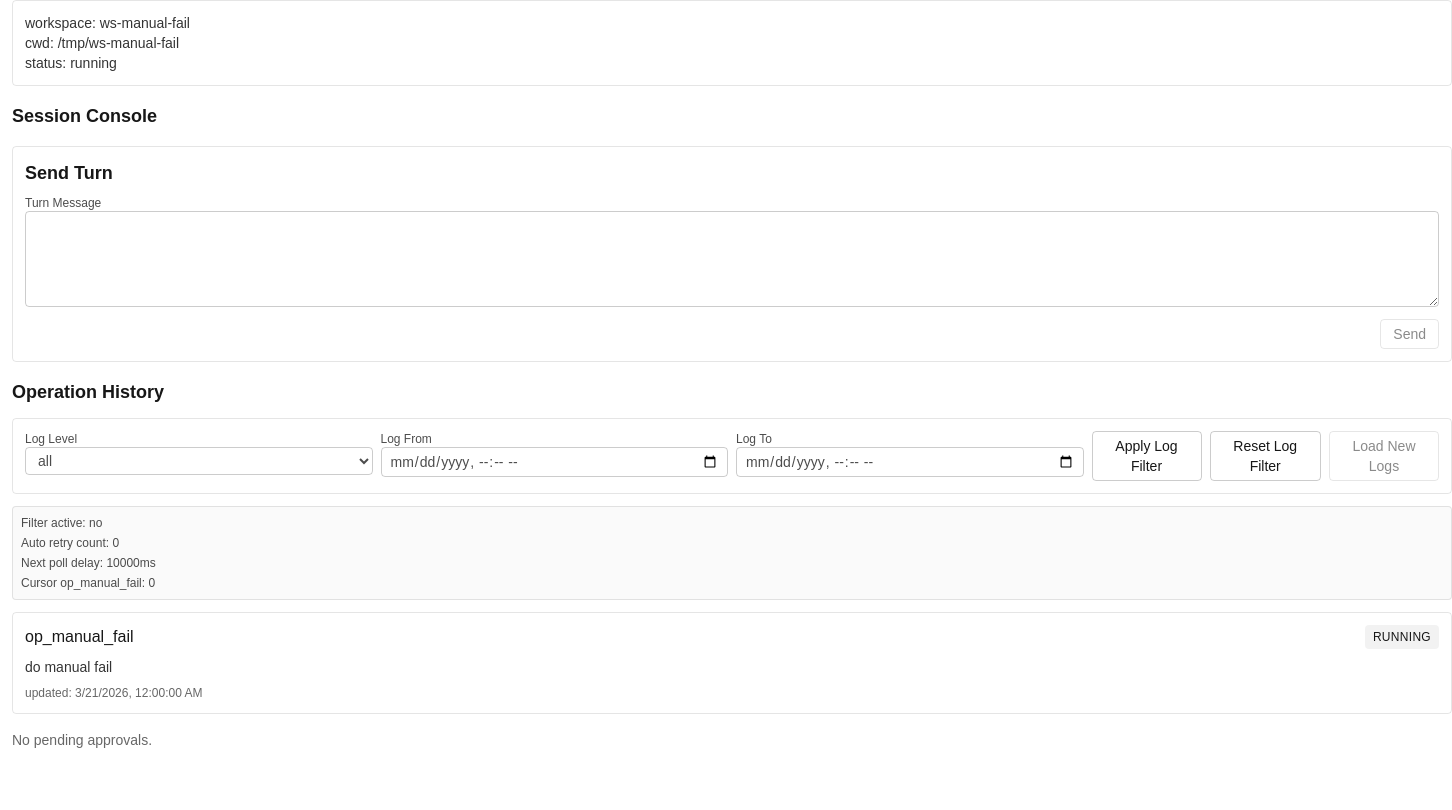
it: SessionDetailLive › shows timestamped manual log reload failure separately
Select "error" in the dropdown labelled "Log Level" at (199, 461), box [25,447,372,475]
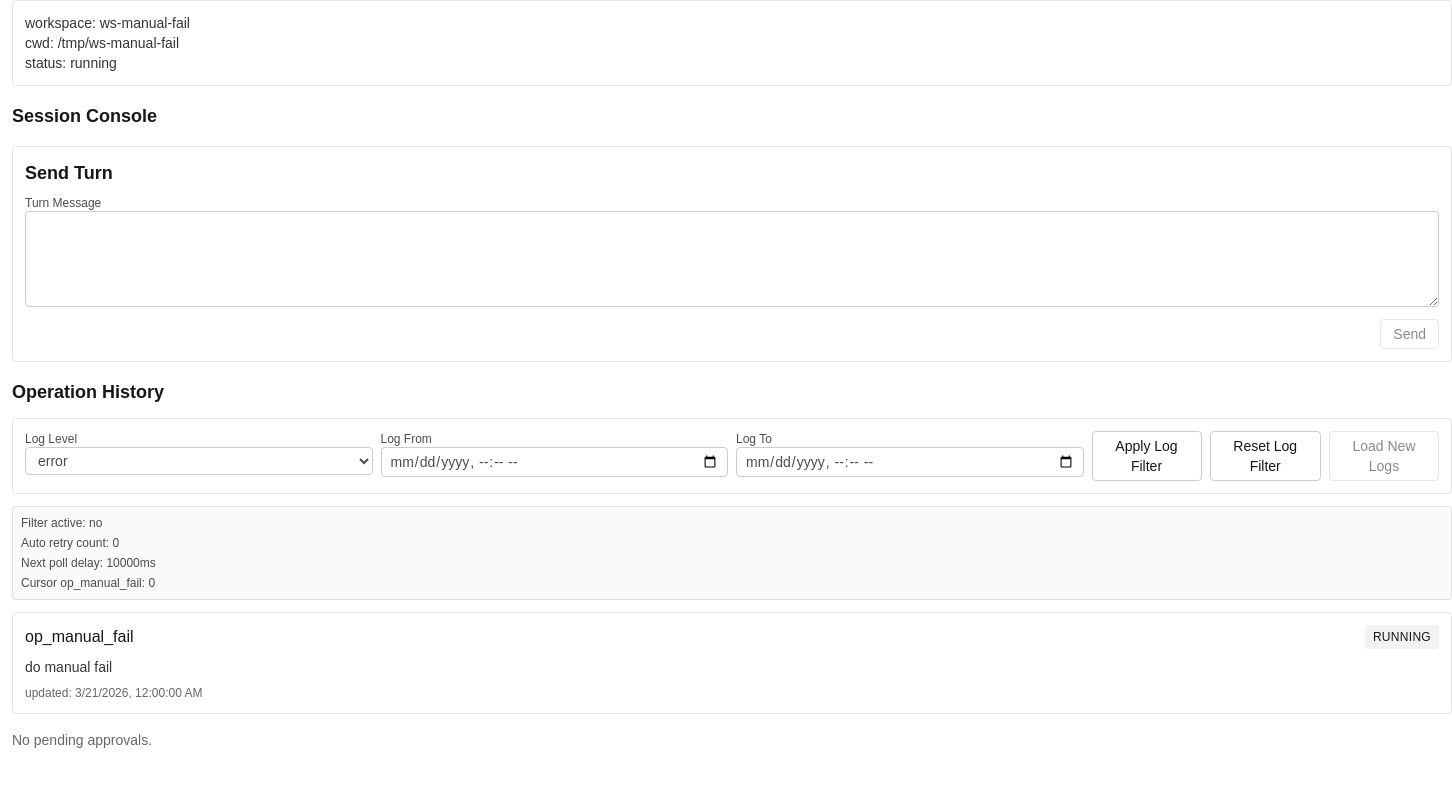
Click the button "Apply Log Filter" at (1146, 456), box [1092,431,1202,481]
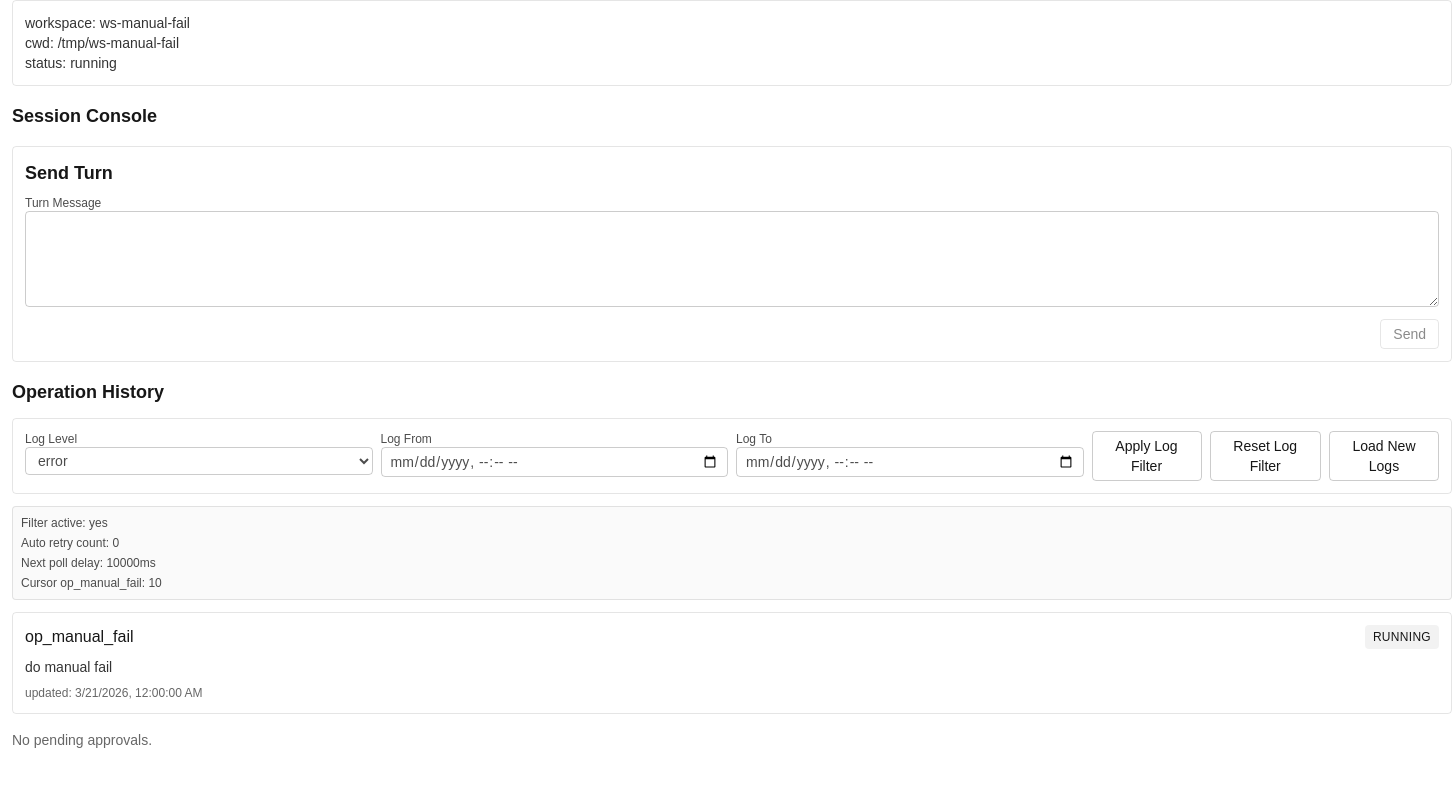
Now the text "Filter active: yes" is shown, box [21,516,108,530]
Click the button "Load New Logs" at (1384, 456), box [1329,431,1439,481]
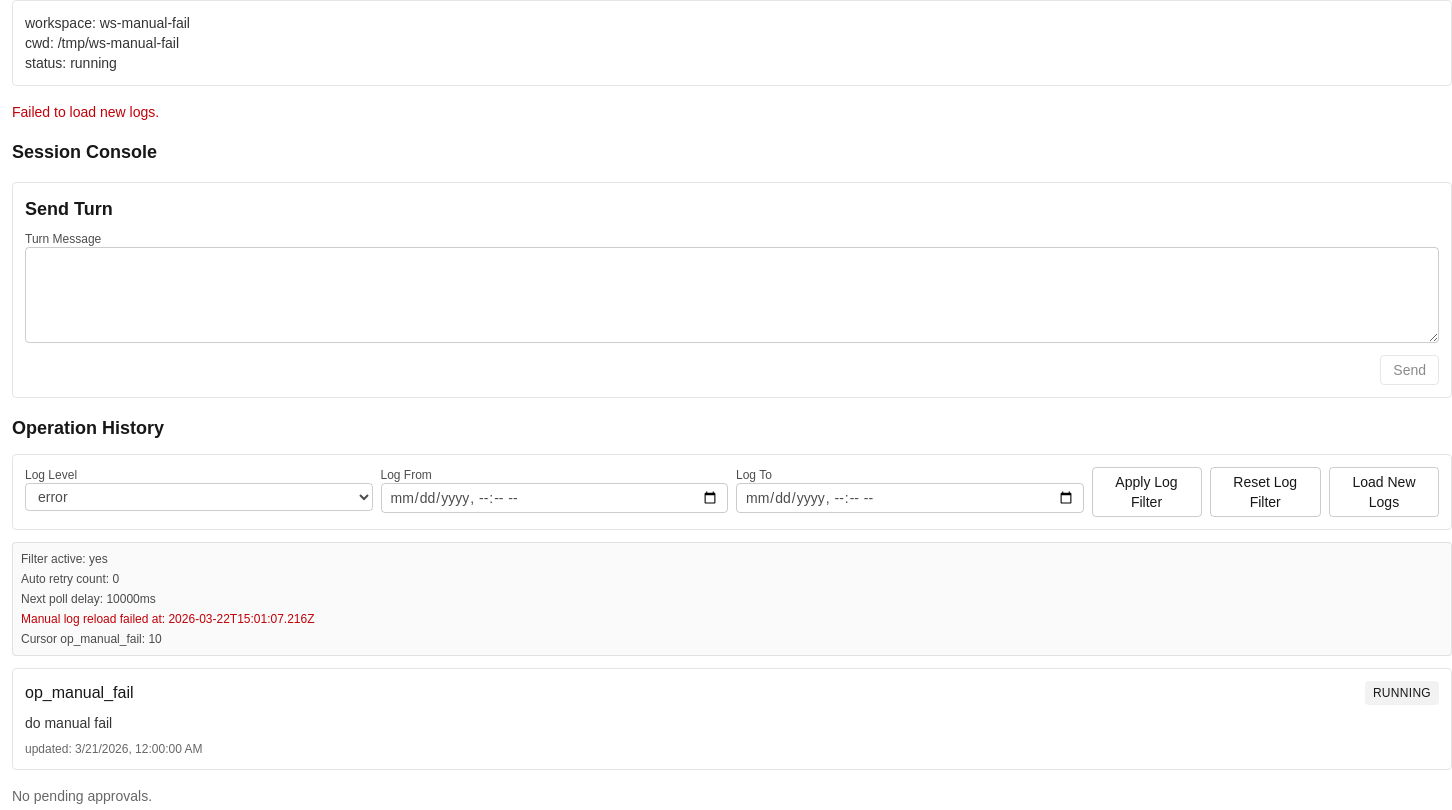
Now the text "Manual log reload failed at: 2026-03-22T15:01:07.216Z" is shown, box [21,612,314,626]
